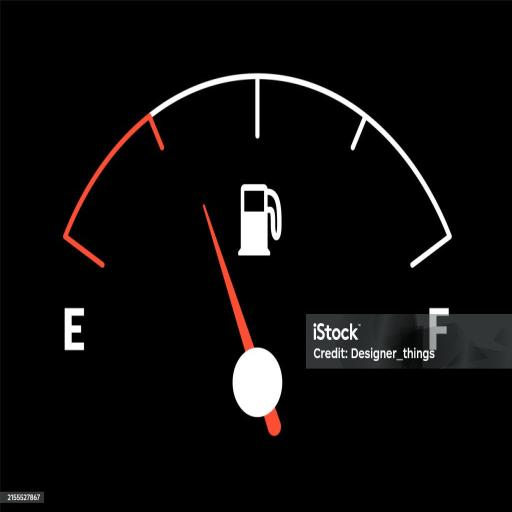empty: (59, 301, 90, 354)
fuel_icon: (236, 179, 284, 261)
full: (423, 307, 453, 357)
guage_area: (53, 65, 457, 454)
needle_center: (230, 346, 288, 426)
needle_tip: (200, 196, 212, 222)
